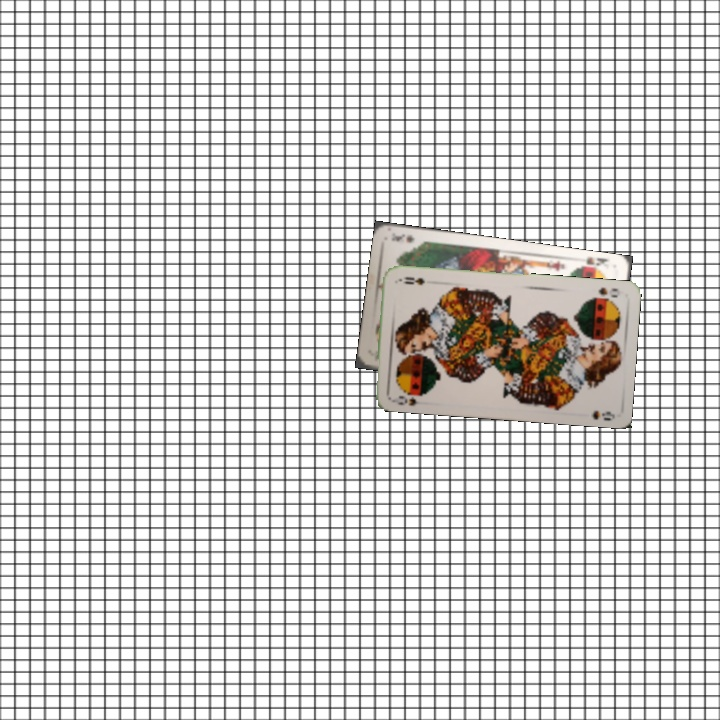SK: (574, 253, 612, 274)
SO: (387, 388, 428, 408), (595, 284, 621, 300)
